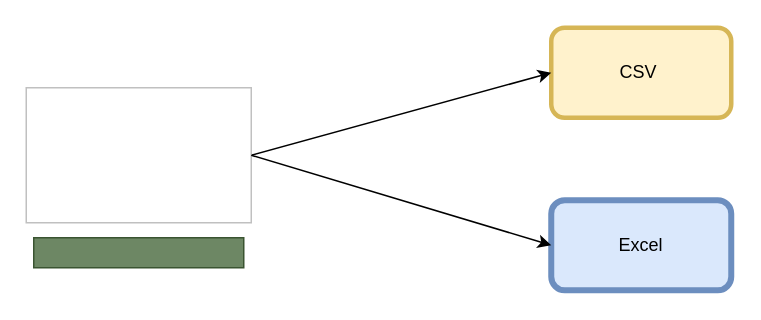
The diagram is 761 pixels wide and 320 high, and some of its shapes have lost their labels. The centre of each missing label's shape, as x and y in pixels:
"name state id Abbas WA 24 Chen CA 16 David IL 12 Peng NY 25" goes at point (138, 154).
"SQL Query CSV result" goes at point (138, 252).
